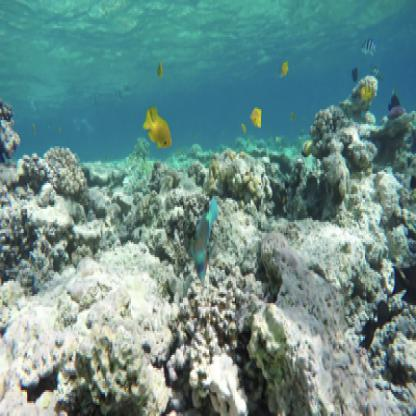damsel: (143, 105, 178, 157)
parrot: (189, 177, 223, 284)
